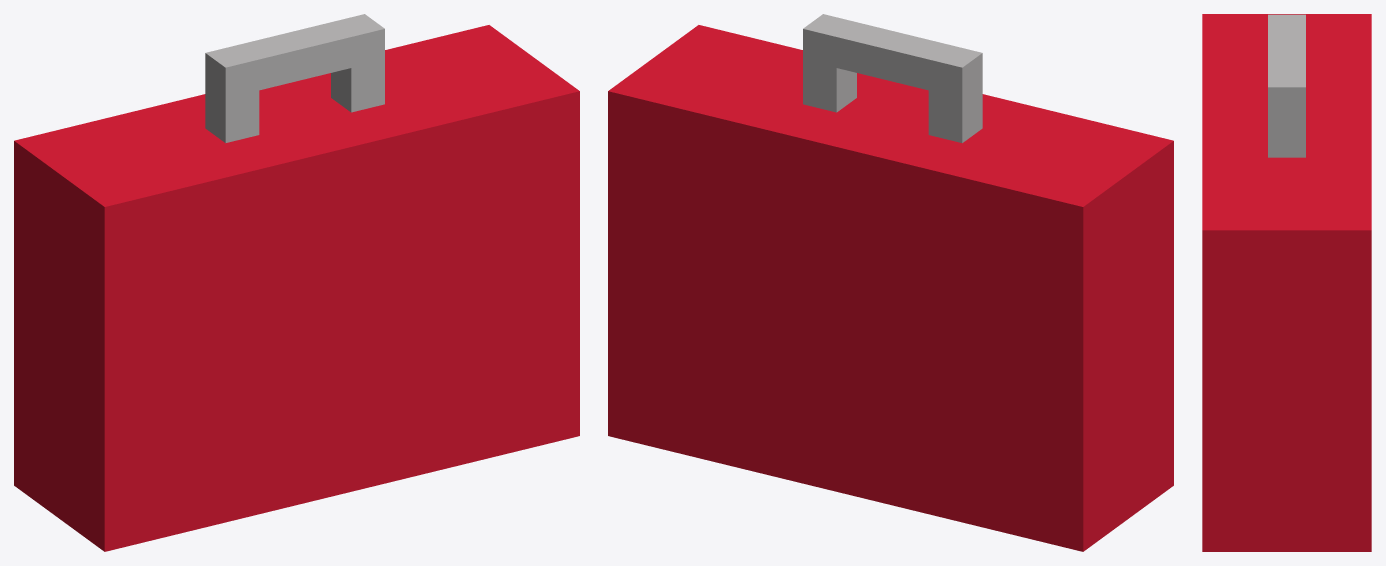
Rendered from botiquin.FBX.
3 renders of one model, left to right at view 1: azimuth 30°, elevation 25°; view 2: azimuth 150°, elevation 25°; view 3: azimuth 270°, elevation 25°, orthographic. The views are drawn at different scales.
Visible parts, largest first — view 1: Botiquin; view 2: Botiquin; view 3: Botiquin.
Part boxes in pixels (left/top/right/bottom): Botiquin: left=14, top=14, right=579, bottom=551; Botiquin: left=608, top=14, right=1173, bottom=551; Botiquin: left=1202, top=14, right=1371, bottom=551.
Bounding box in the file's own units: 14.46 × 12.22 × 4.78.
